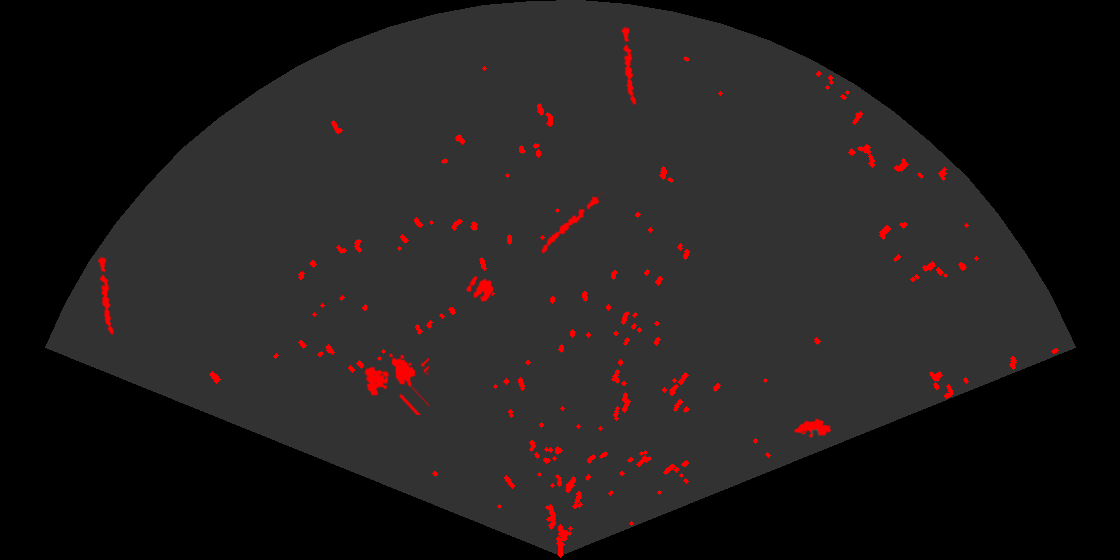AUV: (792, 417, 833, 439)
ball: (465, 274, 495, 304)
cage: (363, 352, 429, 415)
chain: (540, 189, 605, 255), (96, 255, 115, 336), (619, 26, 638, 107)
